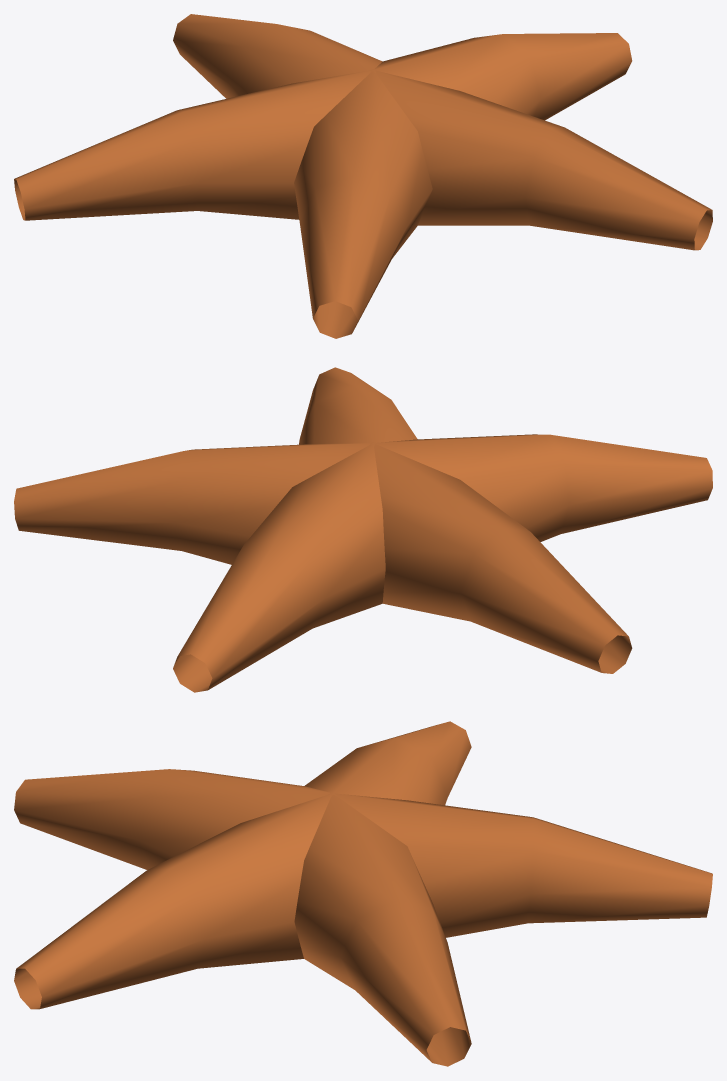
The model's file is item_shell_star.glb.
3 renders of one model, top to bottom at view 1: azimuth 30°, elevation 25°; view 2: azimuth 150°, elevation 25°; view 3: azimuth 270°, elevation 25°, orthographic. The views are drawn at different scales.
Visible parts, largest first — view 1: item_shell_star_main; view 2: item_shell_star_main; view 3: item_shell_star_main.
Part boxes in pixels (left/top/right/bottom): item_shell_star_main: left=14, top=14, right=712, bottom=338; item_shell_star_main: left=14, top=367, right=712, bottom=692; item_shell_star_main: left=14, top=721, right=712, bottom=1066.
Bounding box in the file's own units: 0.3691 × 0.09 × 0.3526.
